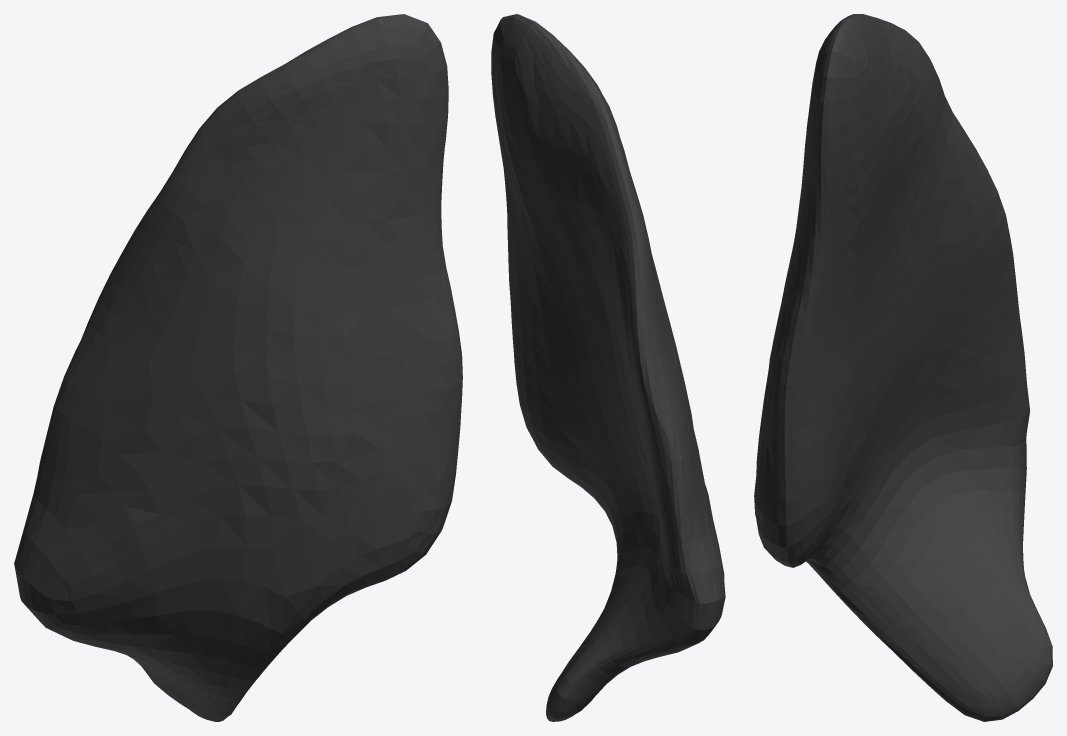
File: m_cricoarytenoideus_dorsalis_LO_R.glb
3 renders of one model, left to right at view 1: azimuth 30°, elevation 25°; view 2: azimuth 150°, elevation 25°; view 3: azimuth 270°, elevation 25°, orthographic. The views are drawn at different scales.
Parts seen in each view (by area): view 1: m_cricoarytenoideus_dorsalis_LO_R; view 2: m_cricoarytenoideus_dorsalis_LO_R; view 3: m_cricoarytenoideus_dorsalis_LO_R.
Boxes of the visible parts, x1=… form: m_cricoarytenoideus_dorsalis_LO_R: x1=14, y1=14, x2=462, y2=721; m_cricoarytenoideus_dorsalis_LO_R: x1=491, y1=14, x2=725, y2=721; m_cricoarytenoideus_dorsalis_LO_R: x1=754, y1=14, x2=1052, y2=721.
Bounding box in the file's own units: 0.1511 × 0.3062 × 0.1099.
1 material, 1 textured.
